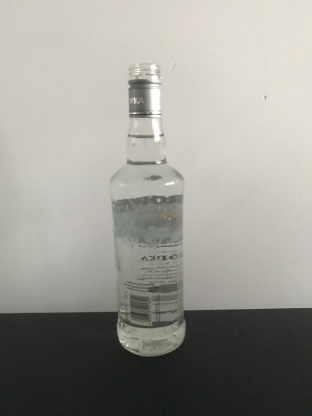nakretka: (126, 62, 164, 117)
